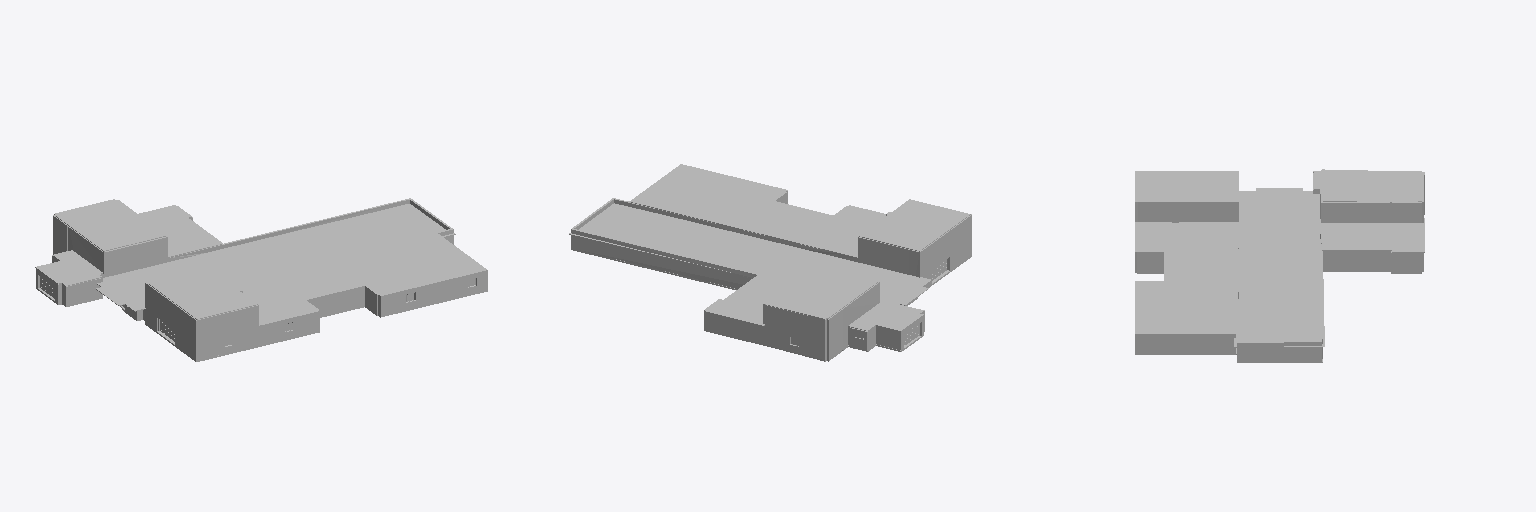
Rendered from iilab2x_roof.obj.
3 renders of one model, left to right at view 1: azimuth 30°, elevation 25°; view 2: azimuth 150°, elevation 25°; view 3: azimuth 270°, elevation 25°, orthographic.
Visible parts, largest first — view 1: Cealing, Cealing_004, Wall1, Wall3.001, Wall4.001, Cealing_002, Cealing_001, Cealing_005, Cealing_003, Wall2, Floor; view 2: Cealing_004, Cealing, Wall1, Wall3.001, Cealing_002, Cealing_001, Cealing_005, Cealing_003, Wall2, Floor; view 3: Cealing_004, Cealing, Wall1, Cealing_002, Cealing_001, Cealing_005, Wall4.001, Wall3.001.
Boxes of the visible parts, x1=… form: Cealing: x1=230, y1=232, x2=487, y2=325; Cealing_004: x1=96, y1=204, x2=455, y2=311; Wall1: x1=53, y1=198, x2=453, y2=276; Wall3.001: x1=145, y1=282, x2=260, y2=360; Wall4.001: x1=261, y1=271, x2=487, y2=344; Cealing_002: x1=55, y1=199, x2=165, y2=251; Cealing_001: x1=147, y1=267, x2=257, y2=319; Cealing_005: x1=138, y1=205, x2=222, y2=257; Cealing_003: x1=35, y1=250, x2=102, y2=285; Wall2: x1=36, y1=251, x2=144, y2=319; Floor: x1=36, y1=288, x2=487, y2=361; Cealing_004: x1=569, y1=203, x2=931, y2=305; Cealing: x1=629, y1=164, x2=885, y2=257; Wall1: x1=571, y1=198, x2=879, y2=359; Wall3.001: x1=858, y1=214, x2=971, y2=287; Cealing_002: x1=766, y1=267, x2=877, y2=319; Cealing_001: x1=859, y1=199, x2=970, y2=251; Cealing_005: x1=704, y1=274, x2=792, y2=325; Cealing_003: x1=848, y1=302, x2=924, y2=331; Wall2: x1=848, y1=299, x2=924, y2=350; Floor: x1=571, y1=248, x2=971, y2=361; Cealing_004: x1=1234, y1=188, x2=1324, y2=347; Cealing: x1=1135, y1=222, x2=1238, y2=333; Wall1: x1=1237, y1=171, x2=1424, y2=361; Cealing_002: x1=1323, y1=171, x2=1423, y2=201; Cealing_001: x1=1136, y1=171, x2=1237, y2=200; Cealing_005: x1=1321, y1=223, x2=1424, y2=252; Wall4.001: x1=1135, y1=252, x2=1235, y2=353; Wall3.001: x1=1135, y1=171, x2=1238, y2=221.
Size of the model in its own units: 69.93 by 8.03 by 49.74.